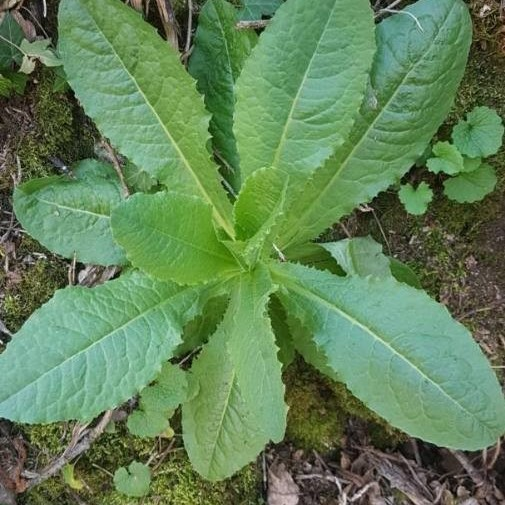obstacle: (33, 13, 490, 458)
